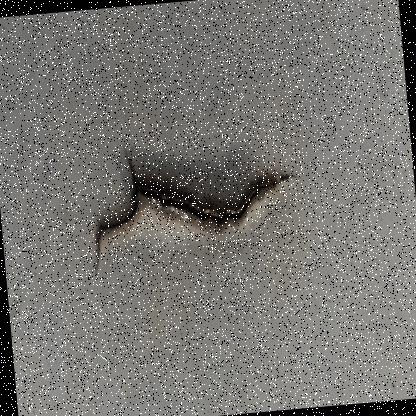Crack: (50, 88, 316, 307)
